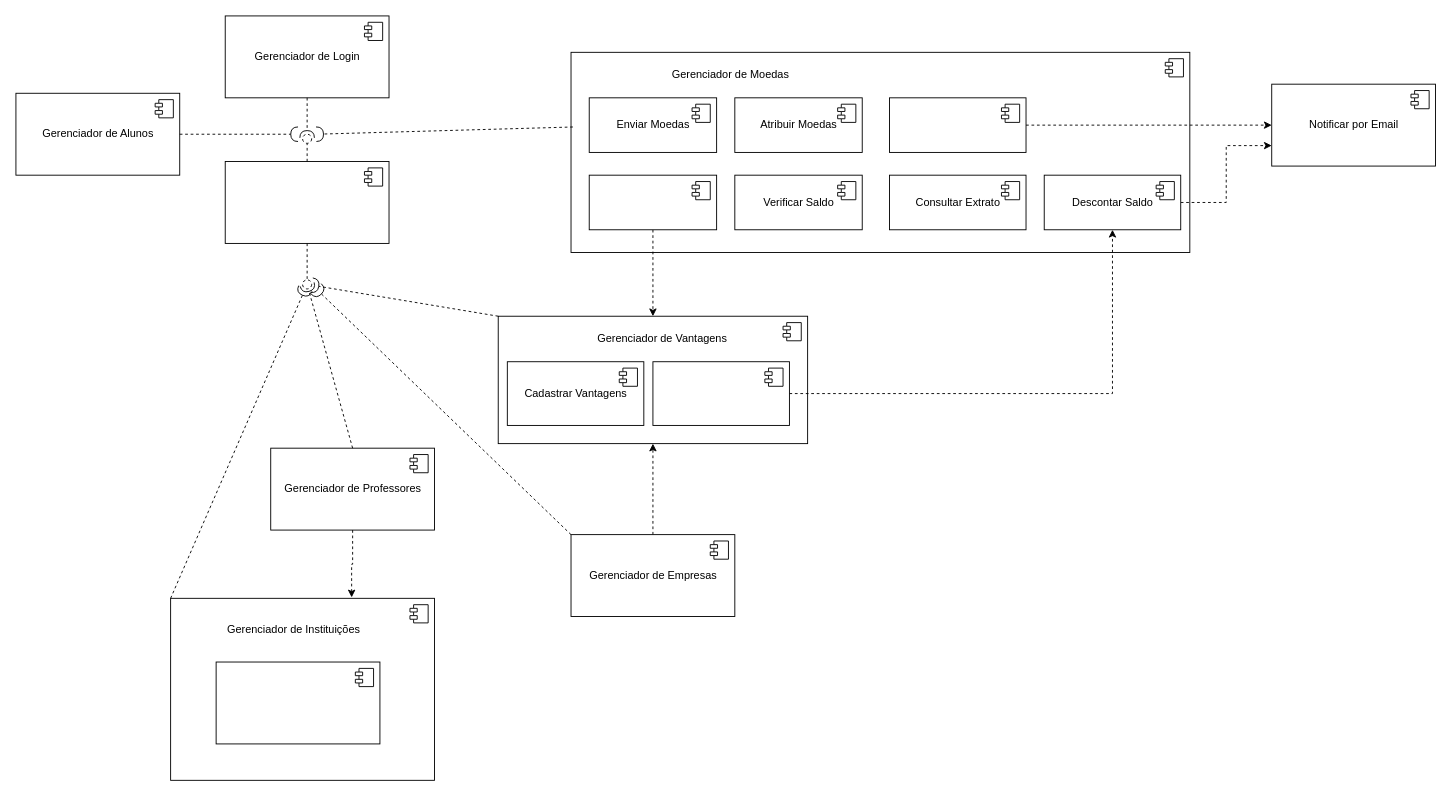
Some shapes in this 1451 by 796 pixel diagram are drawn without their labels. Each missing label, with the centre of its shape:
Receber Moedas: [957,124]
Resgatar Vantagens: [720,393]
SGBD: [306,202]
Trocar Moedas: [652,202]
Vincular Instituição: [297,702]
